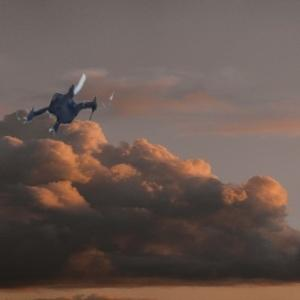drone: (20, 56, 117, 153)
